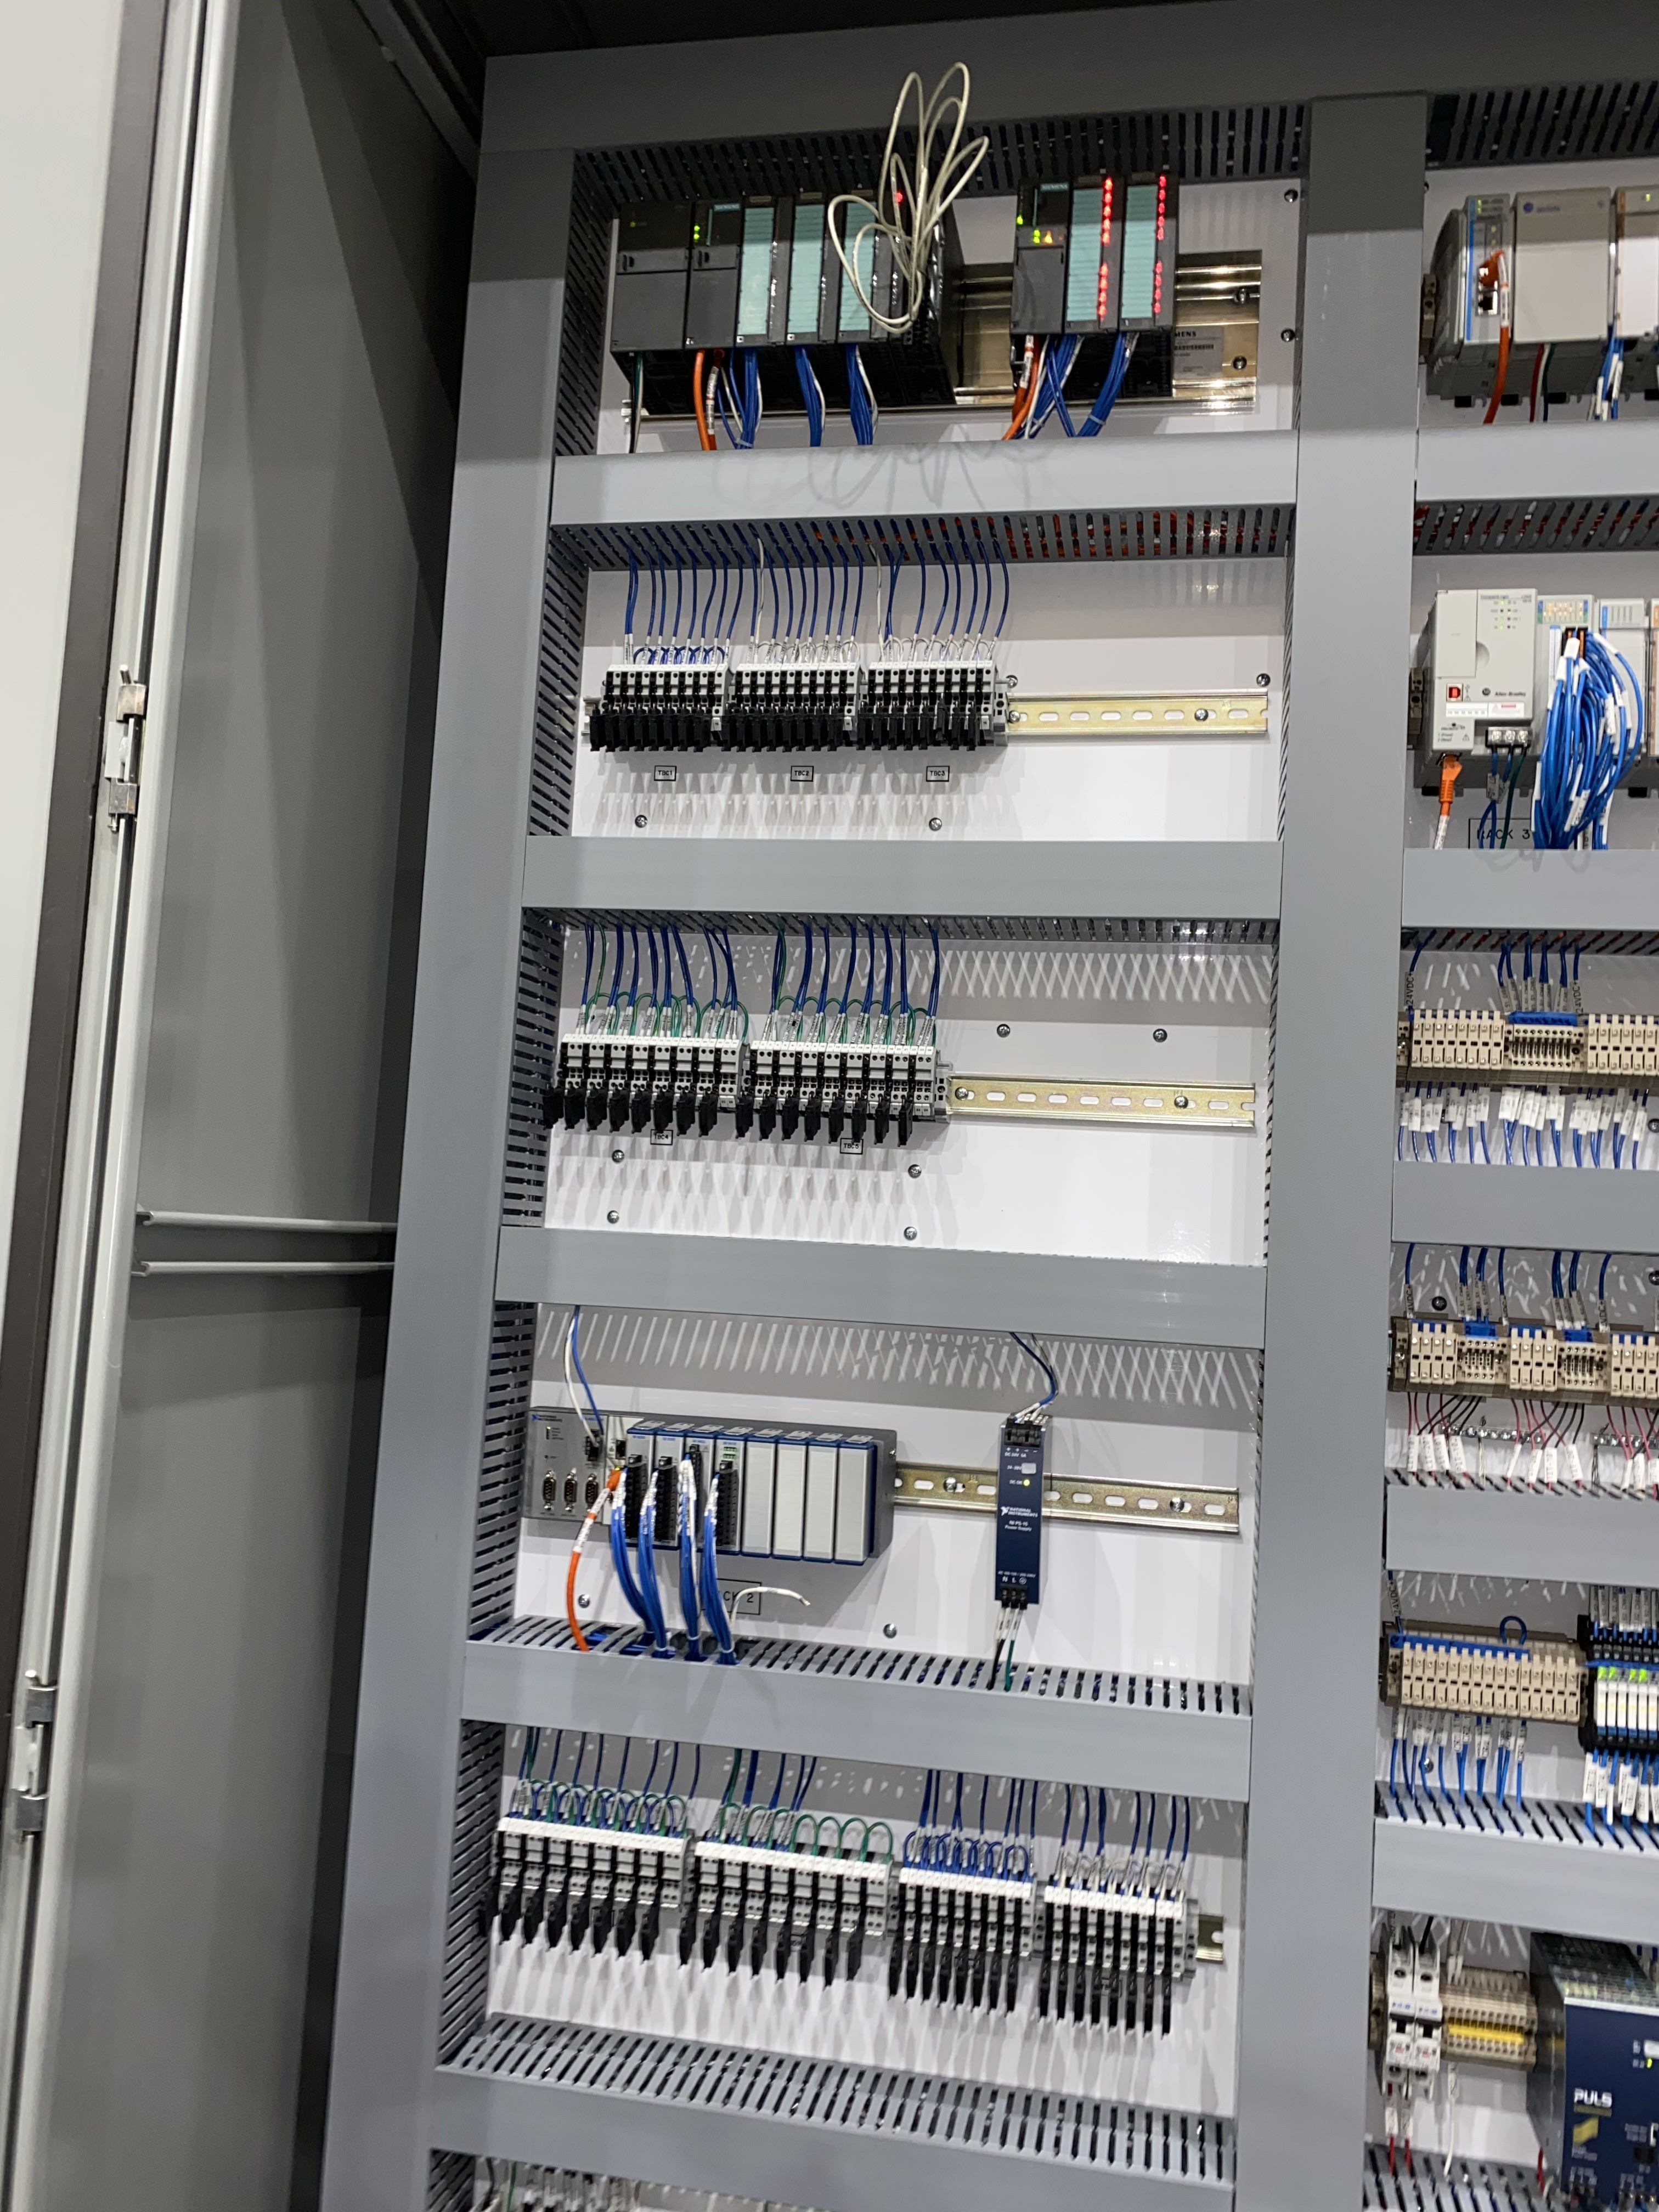AllenBradley: (1427, 583, 1539, 765)
Siemens: (676, 190, 753, 359)
